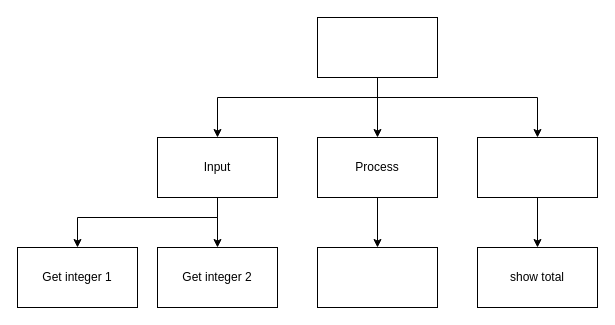
Some shapes in this 615 by 325 pixel diagram are drawn without their labels. Each missing label, with the box of its shape:
Output: (476, 136, 598, 198)
Sum of two integers: (316, 16, 438, 78)
total = integer 1 + integer 2: (316, 246, 438, 308)
